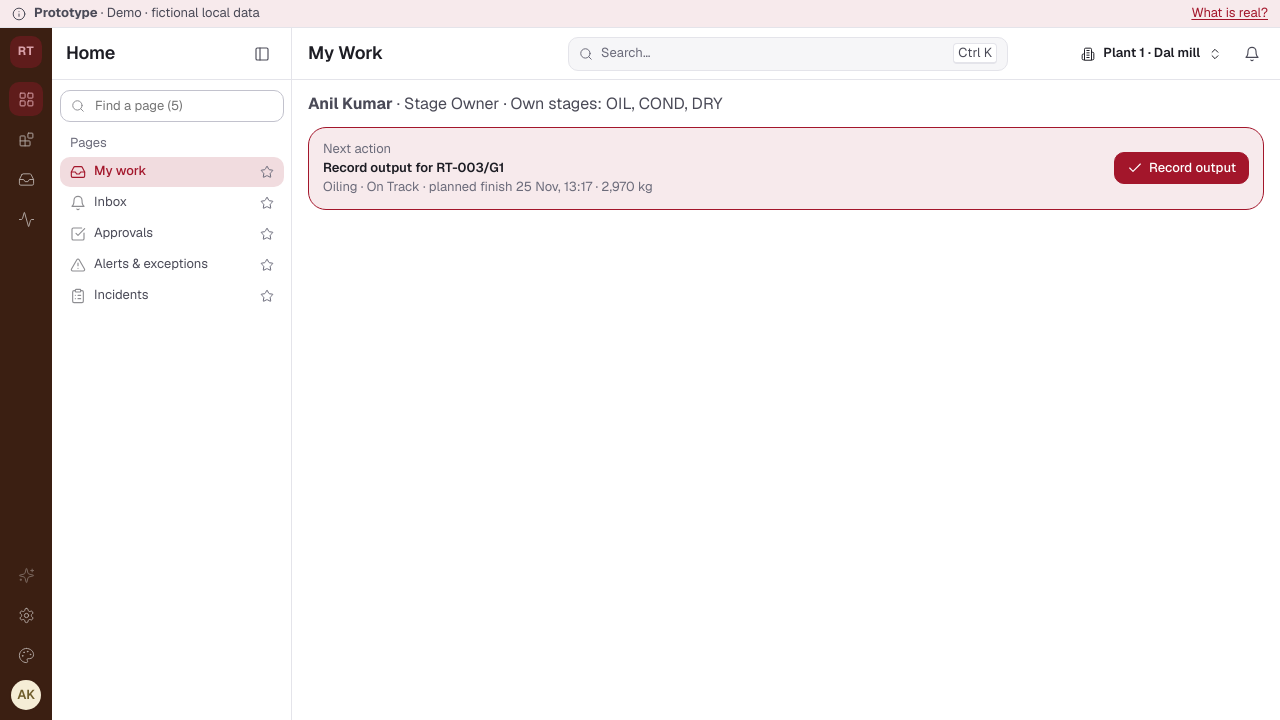
Test: P2 — recovery clarity › invalid oil output keeps the entries; the corrected post succeeds without a stale error
This screenshot has width=1280, height=720.
Later steps or results of the test are not shown.
Click the button "Record output" at {"x": 1182, "y": 168}, box [1114,152,1249,184]
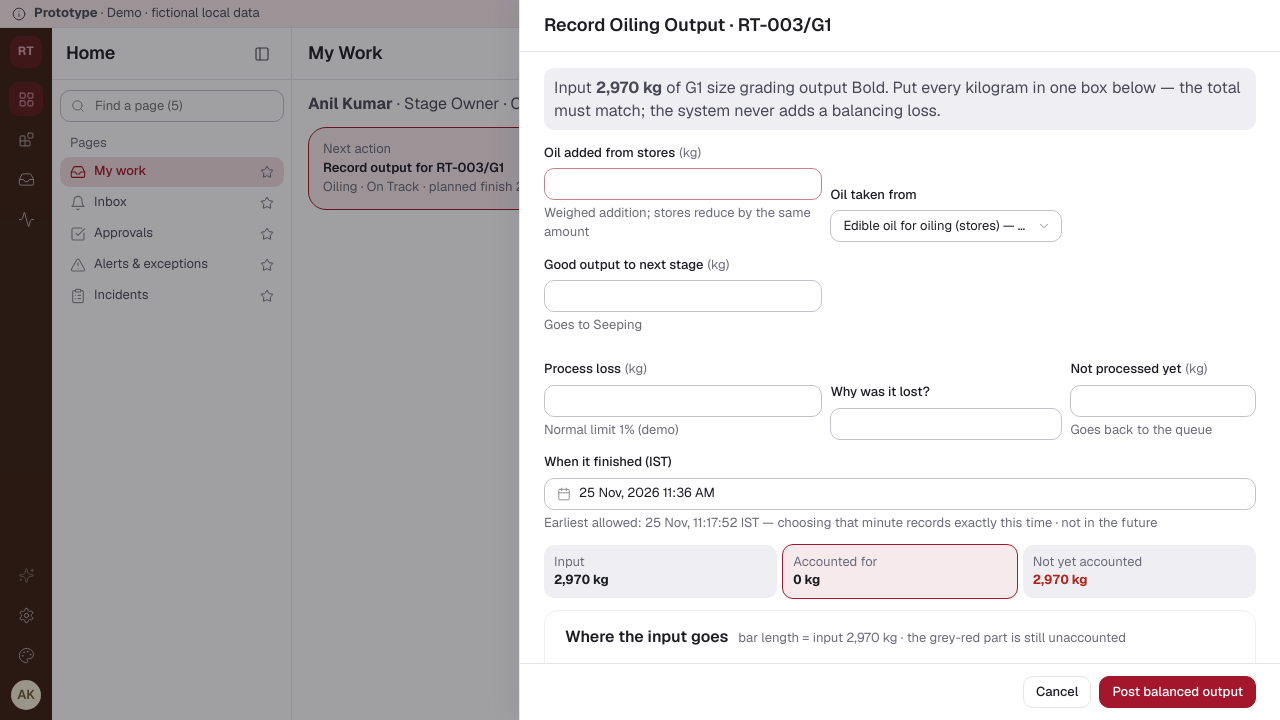
Type "2970" into the number field labelled "Good output to next stage (kg)" at {"x": 683, "y": 296}, box [544,280,822,312]
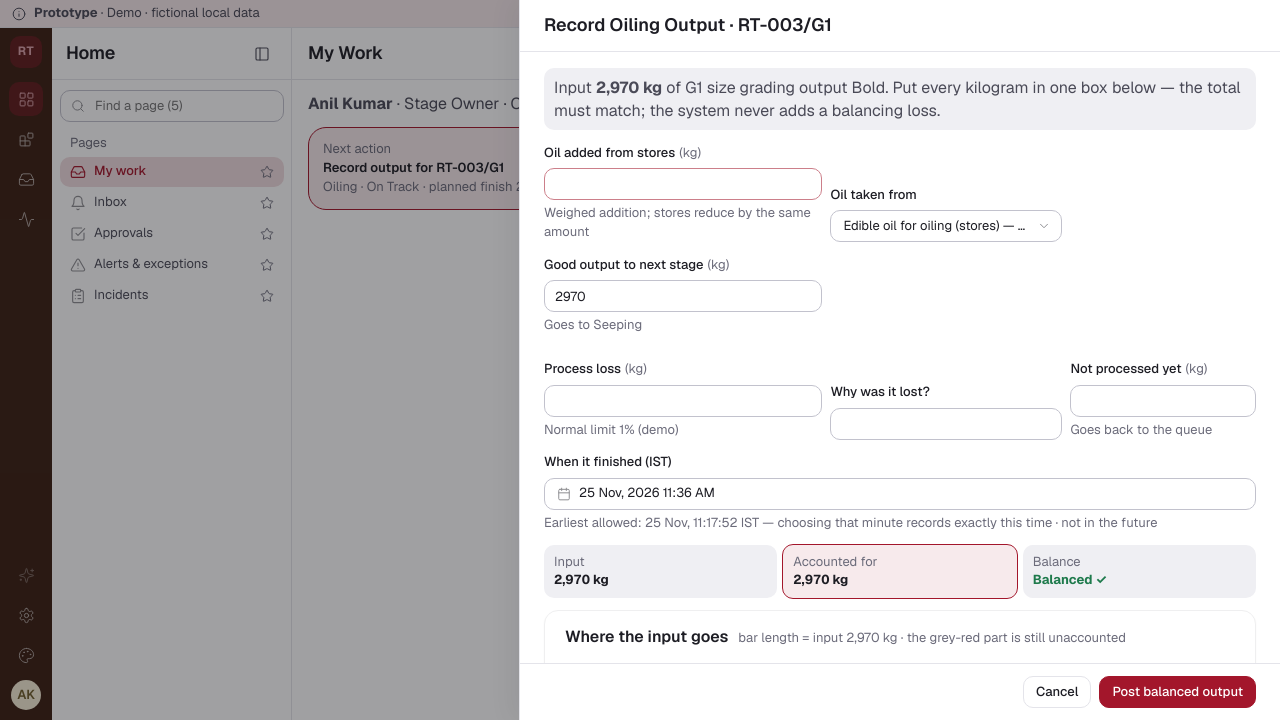
Type "6" into the number field labelled "Oil added from stores (kg)" at {"x": 683, "y": 184}, box [544,168,822,200]
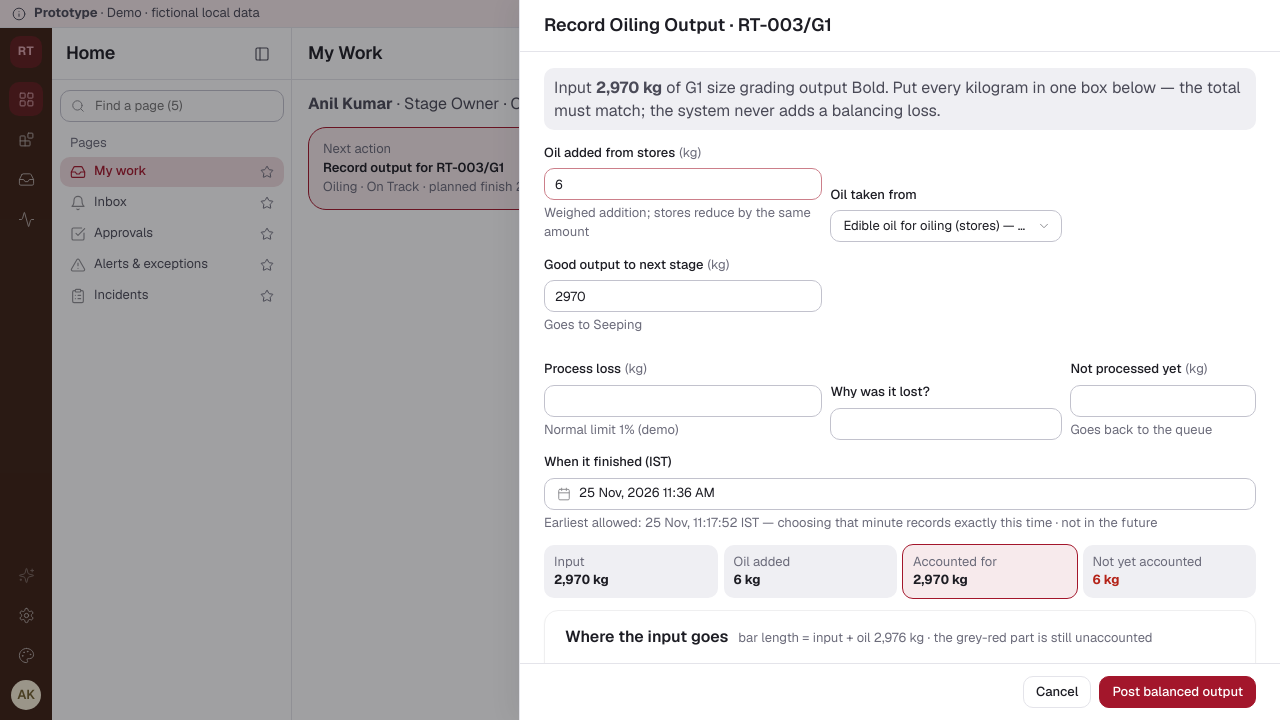
Click the button "Post balanced output" at {"x": 1178, "y": 692}, box [1099,676,1256,708]
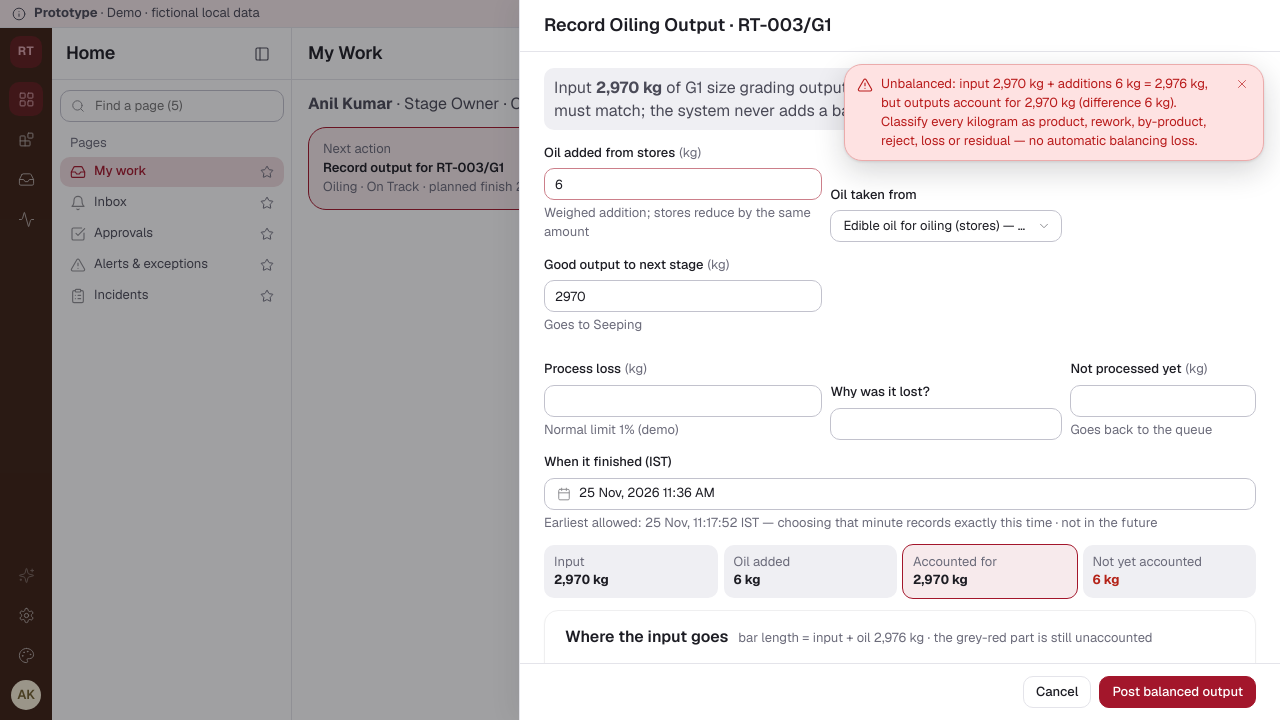
Check: the message with class "toasts" shows "Unbalanced", box [881,75,1208,148]
